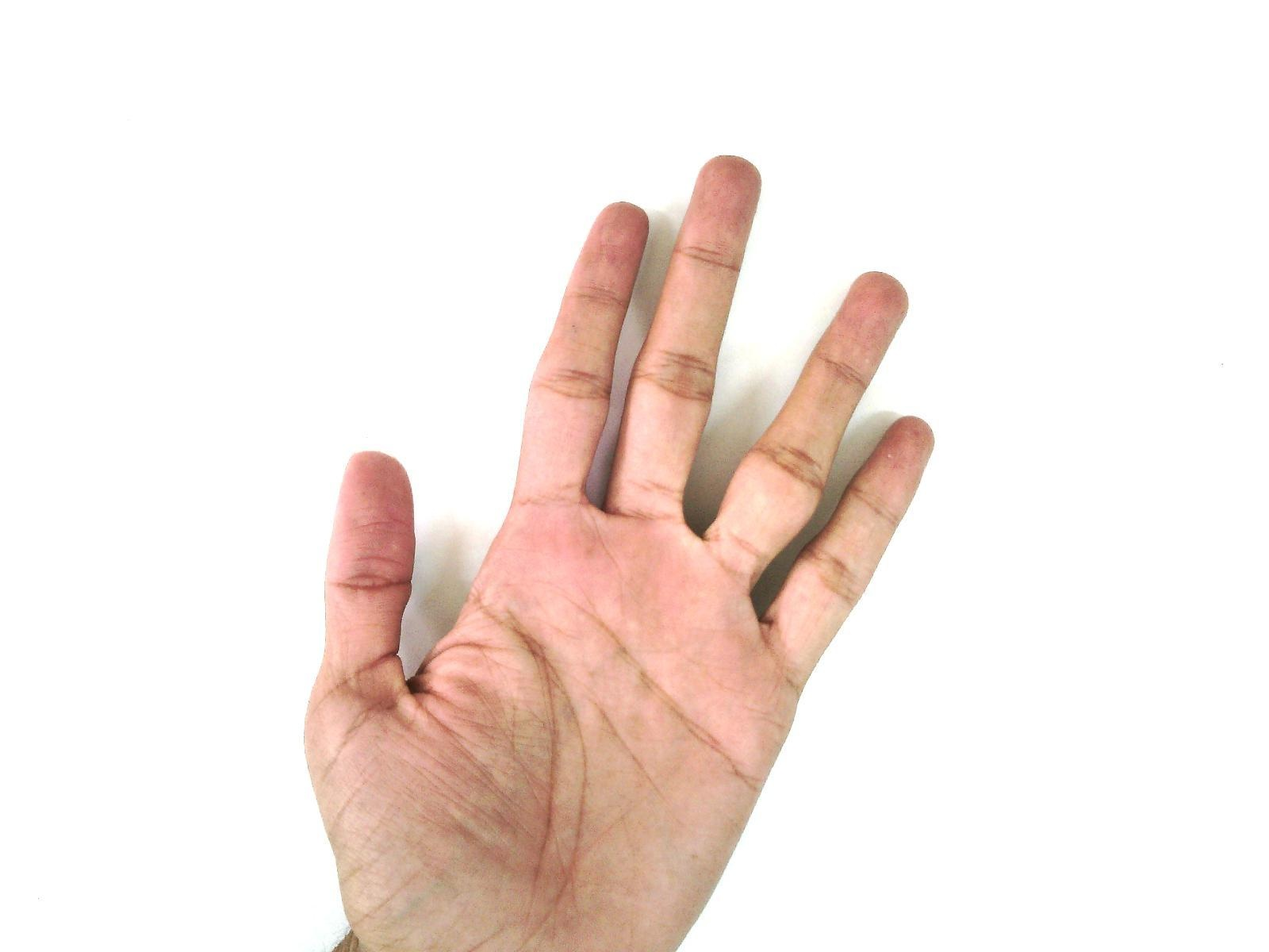open_palm: (301, 154, 937, 951)
